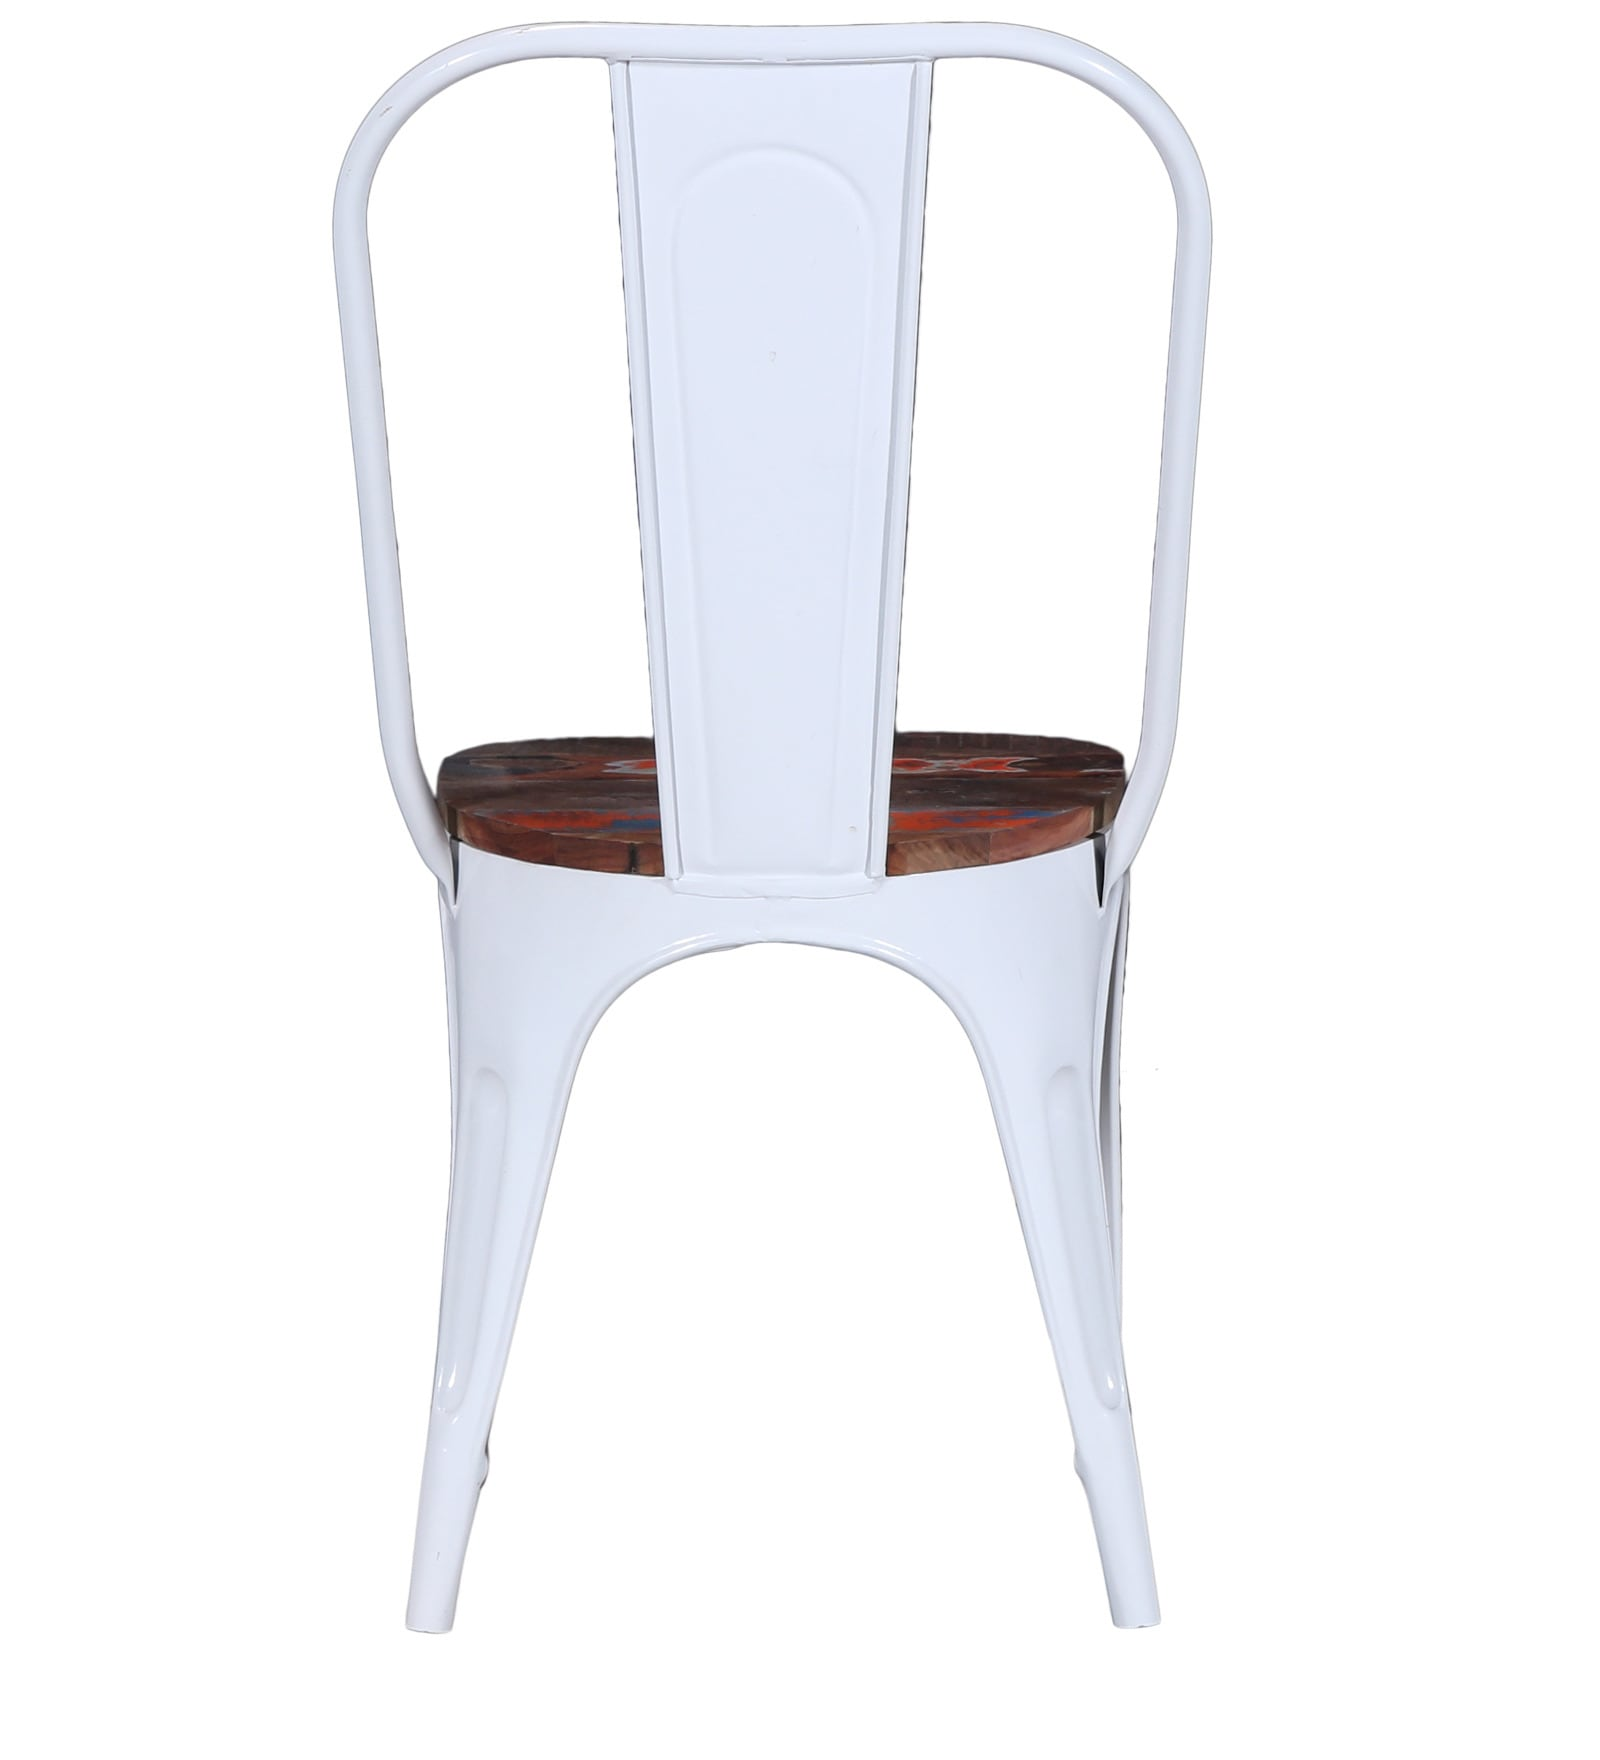Kumtor Metal Chair in Distress White Color with Wooden Seat by Bohemiana: (285, 8, 1297, 1674)
